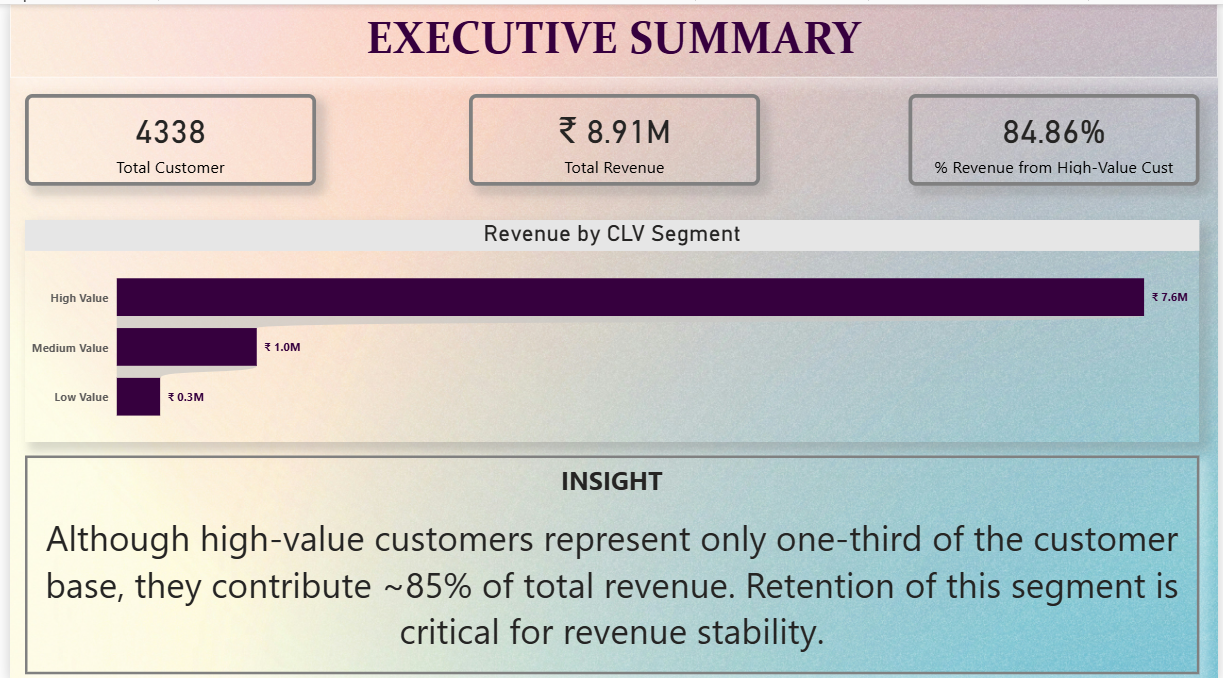

The dashboard page shown, as its layout file describes it:
{"tool":"powerbi","page":{"name":"Executive Summary","canvas":[1280,720],"ordinal":0},"visuals":[{"type":"textbox","box":[0,0,1280.4,77.9],"z":0},{"type":"card","fields":{"Values":["CountNonNull(customer_clv.CustomerID)"]},"box":[15.9,95.4,308.6,97],"z":1000},{"type":"card","fields":{"Values":["Sum(customer_clv.TotalRevenue)"]},"box":[486.7,95.4,308.6,97],"z":2000},{"type":"card","fields":{"Values":["customer_clv.RevenueShare_HighValue"]},"box":[952.8,95.4,308.6,97],"z":3000},{"type":"barChart","title":"Revenue by CLV Segment","fields":{"Y":["Sum(customer_clv.TotalRevenue)"],"Category":["customer_clv.CLV_Segment"]},"box":[15.9,229,1245.4,235.4],"z":4000},{"type":"textbox","box":[15.9,478.8,1245.4,232.2],"z":5000}]}

Visuals, with their boxes in screenshot pixels (x1, y1, x2, y2), scaled from the page's 1280x720 canvas onto the 1223x678 screenshot:
textbox: region(0, 0, 1222, 73)
card - CountNonNull(customer_clv.CustomerID): region(15, 90, 310, 181)
card - Sum(customer_clv.TotalRevenue): region(465, 90, 760, 181)
card - customer_clv.RevenueShare_HighValue: region(910, 90, 1205, 181)
"Revenue by CLV Segment" barChart: region(15, 216, 1205, 437)
textbox: region(15, 451, 1205, 670)
